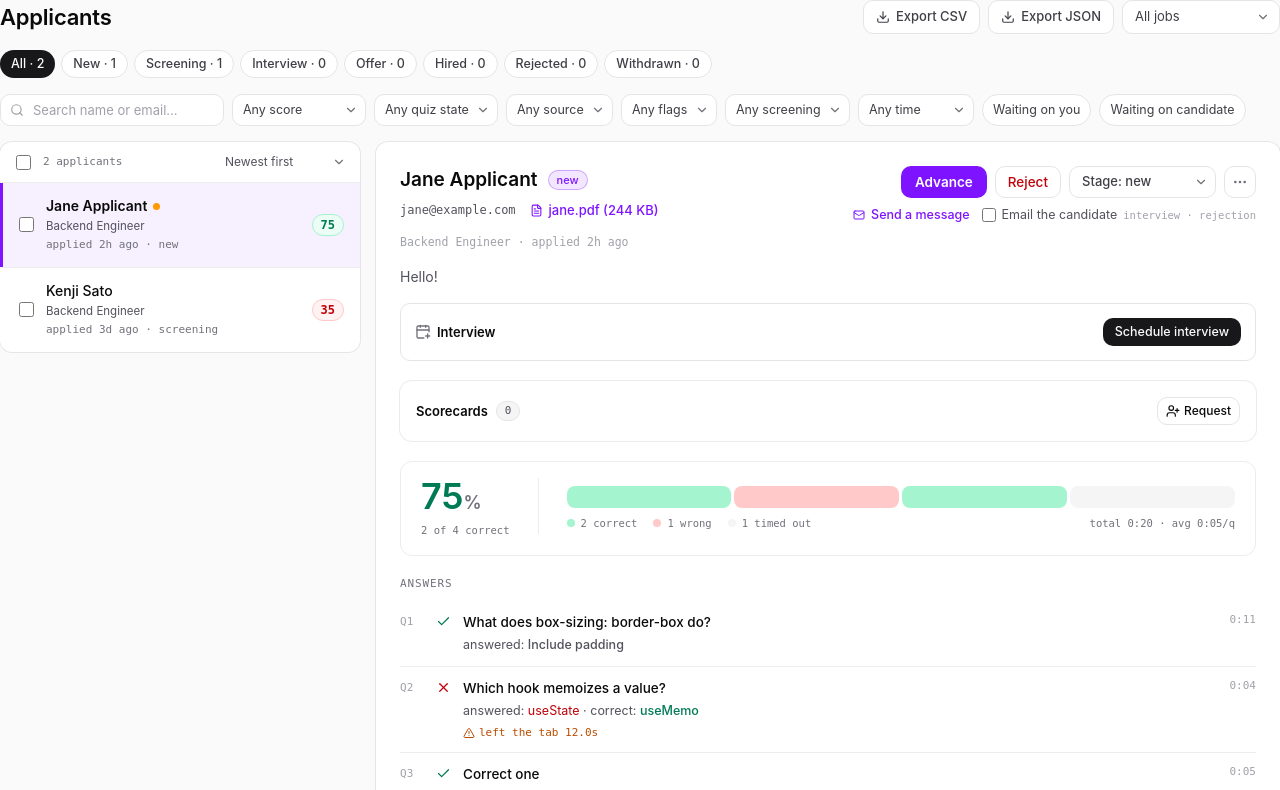
Test: ApplicantsPage › Cancel in the preview keeps the stage
Check: the heading "Jane Applicant" is shown, box left=400, top=166, right=538, bottom=194
Click the checkbox labelled "Email the candidate interview · rejection".
click(989, 215)  # box left=982, top=208, right=996, bottom=222
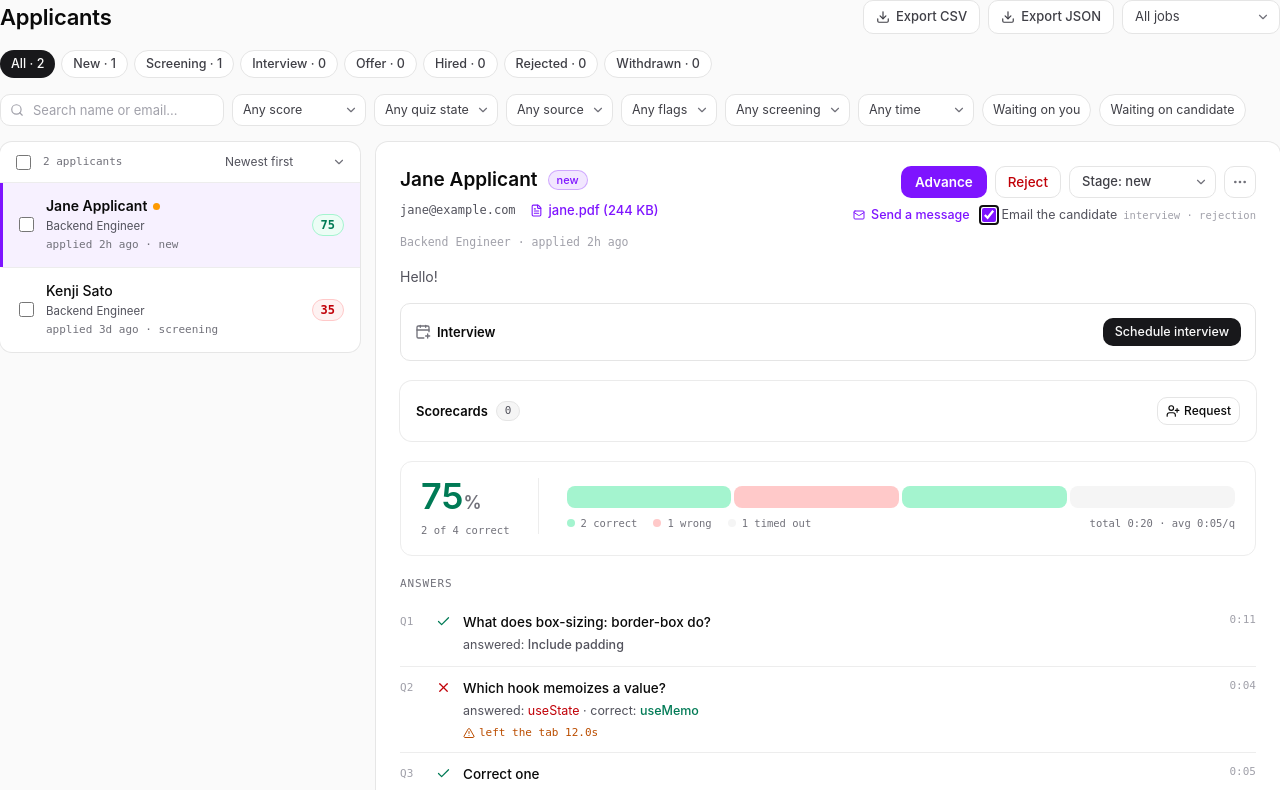
Click the button "Reject".
click(1028, 182)  # box left=995, top=166, right=1061, bottom=198
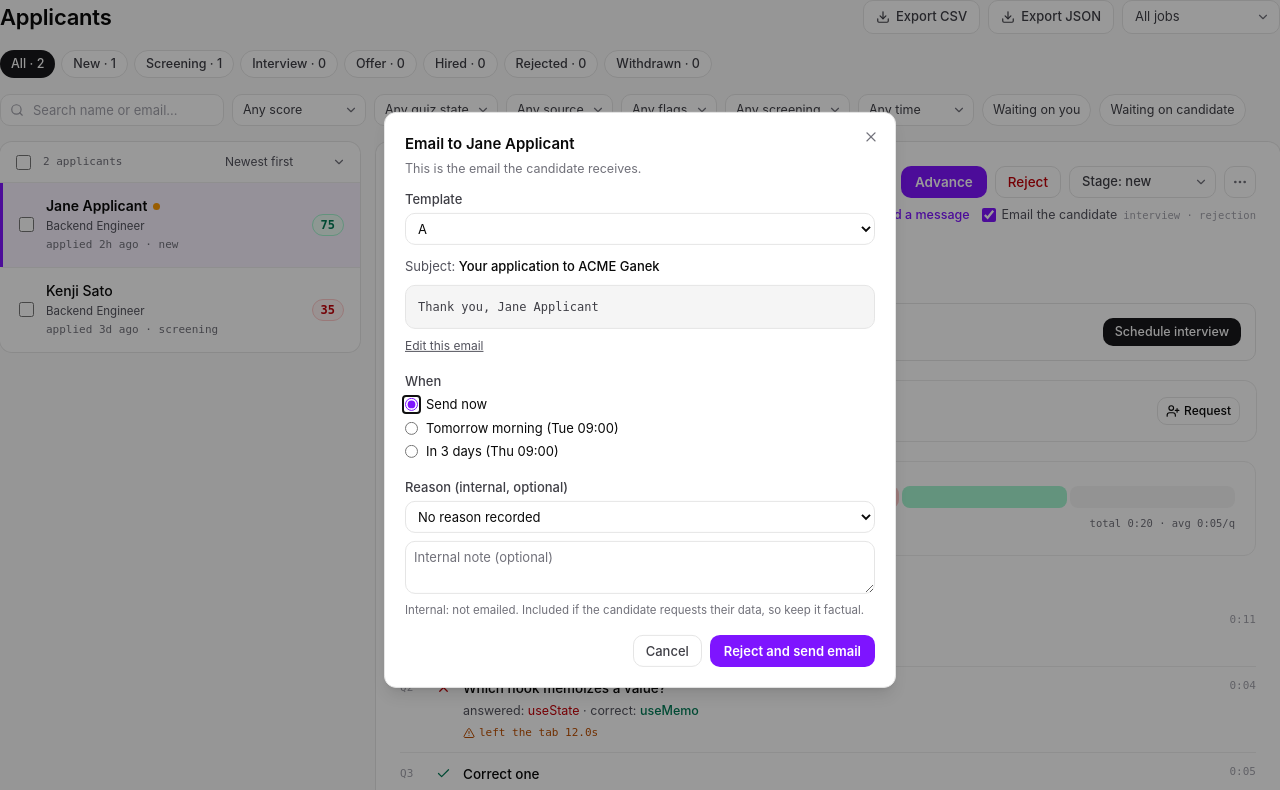
Check: the text "Your application to ACME Ganek" is shown, box left=459, top=258, right=660, bottom=274
Click the button "Cancel".
click(667, 651)  # box left=633, top=635, right=702, bottom=667
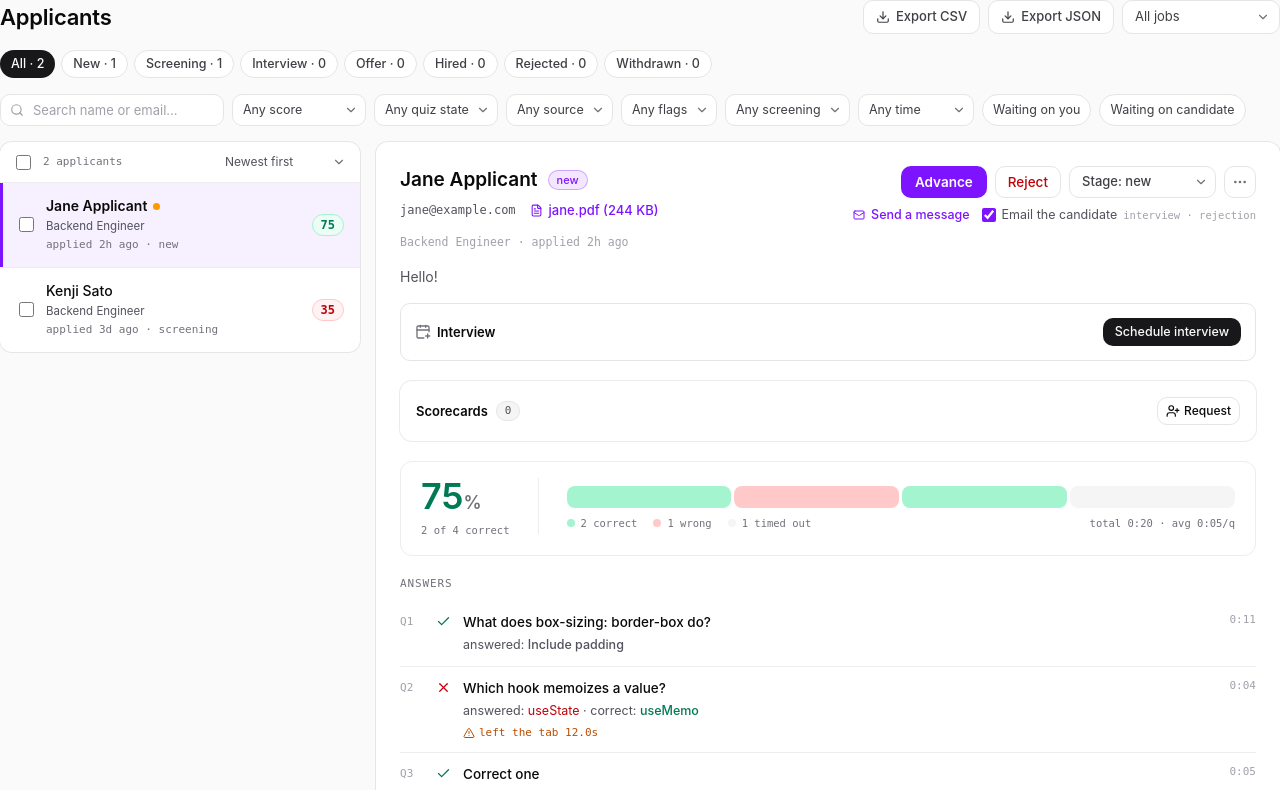
Check: the text "Your application to ACME Ganek" is gone
